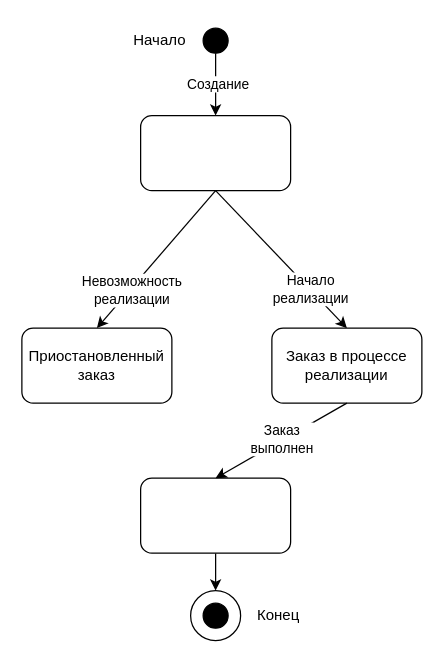
Image size: 444x663. Some labels were removed from this diagram. The shapes that lost their labels are listed below. From the top down, each one's centre as x and y in pixels, then its label:
the point at 215,152: Новый заказ
the point at 215,515: Выполненный заказ
